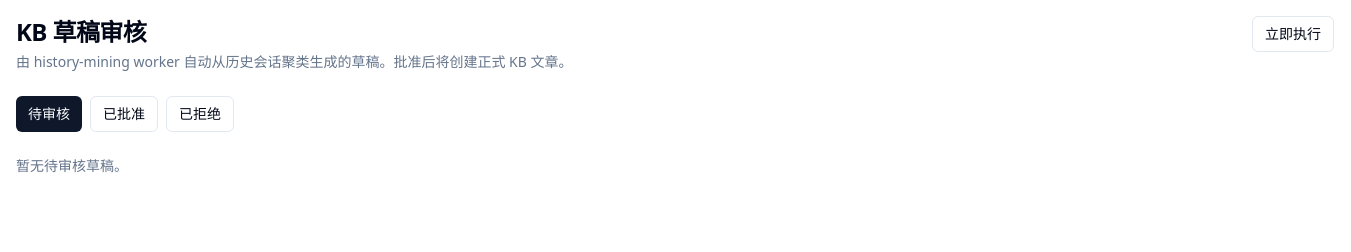
AdminKbDraftsPage › shows a "queue unreachable" banner on 503
Click the button with test id "run-mining-button" at (1293,34), box x1=1252 y1=16 x2=1334 y2=52
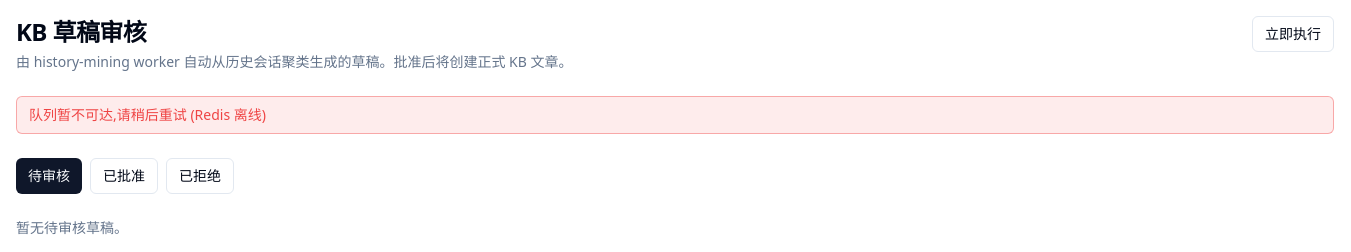
Now the message with test id "run-mining-banner-error" reads "队列暂不可达,请稍后重试 (Redis 离线)", box x1=29 y1=105 x2=266 y2=124
